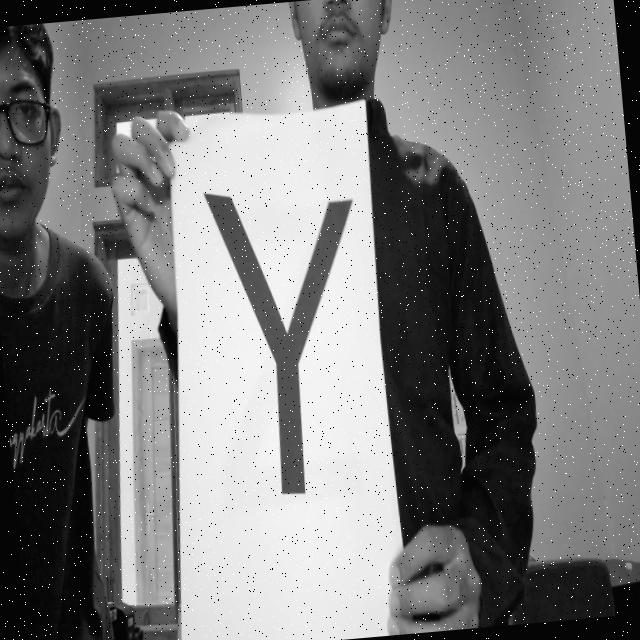y: (195, 154, 388, 529)
